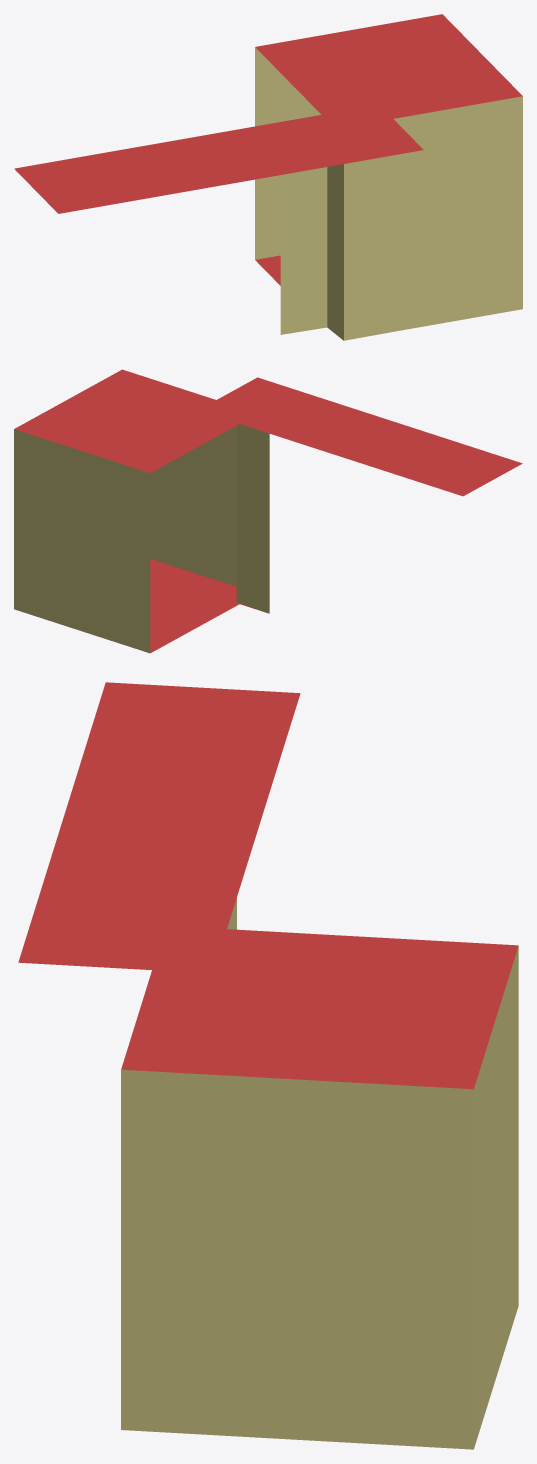
The picture shows the model from 3 angles, top to bottom: view 1: azimuth 30°, elevation 25°; view 2: azimuth 150°, elevation 25°; view 3: azimuth 270°, elevation 25°; orthographic projection. The views are drawn at different scales.
Bounding box in the file's own units: 16.04 × 8.34 × 6.62.
